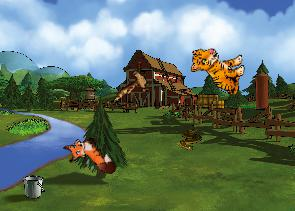eagle: (110, 57, 158, 112)
fox: (59, 127, 119, 189)
tiger: (189, 46, 246, 95)
